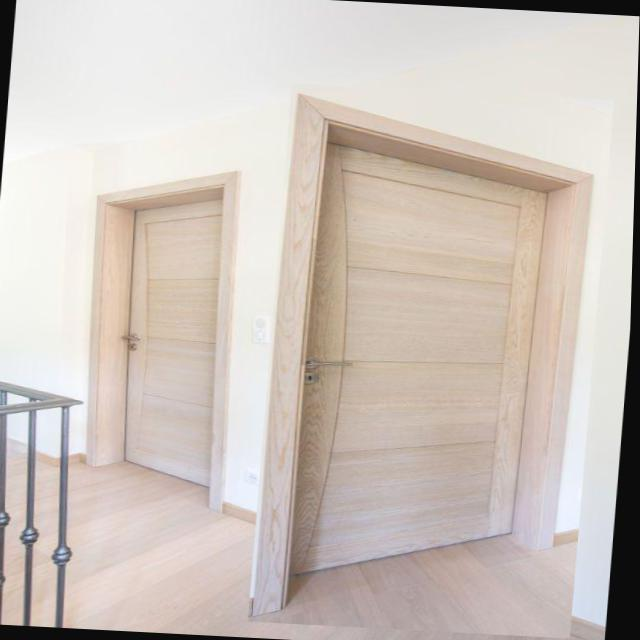close: (251, 84, 617, 639), (57, 153, 261, 521)
